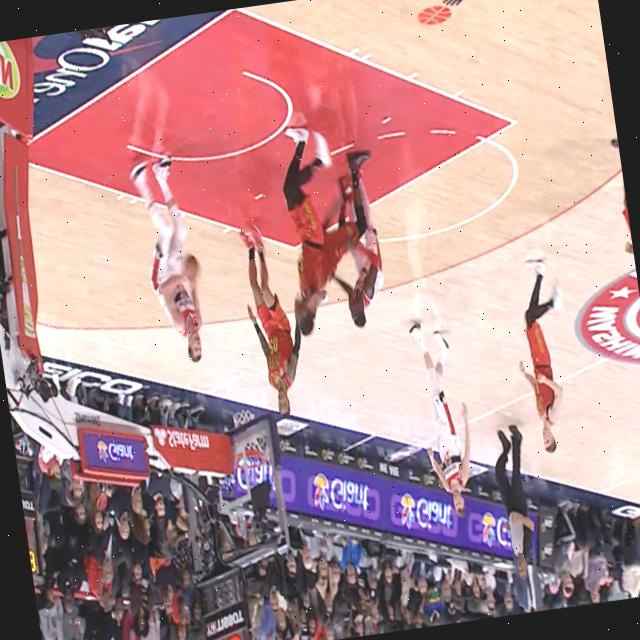foul: (245, 106, 412, 357)
